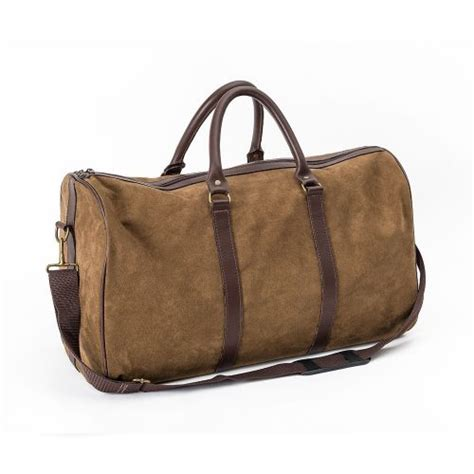gamuza: (56, 145, 422, 390)
